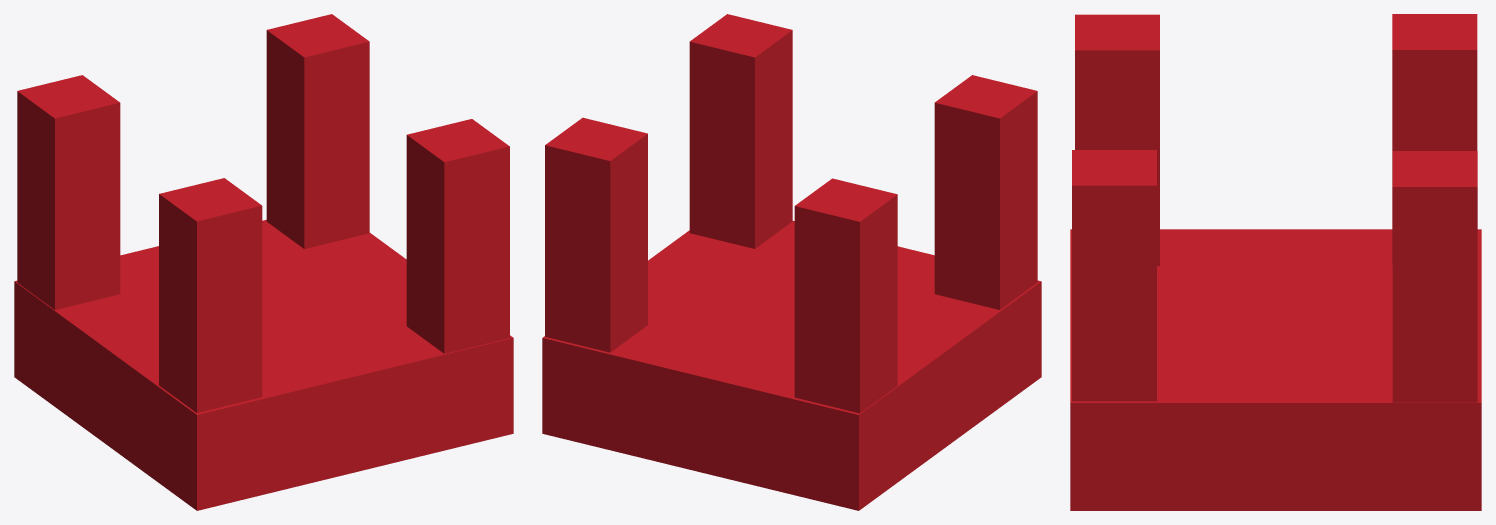
Rendered from townhall_bis.fbx.
3 renders of one model, left to right at view 1: azimuth 30°, elevation 25°; view 2: azimuth 150°, elevation 25°; view 3: azimuth 270°, elevation 25°, orthographic. The views are drawn at different scales.
Visible parts, largest first — view 1: Cube; view 2: Cube; view 3: Cube.
Part boxes in pixels (bbox=[...]): Cube: bbox=[14, 14, 513, 510]; Cube: bbox=[542, 14, 1041, 510]; Cube: bbox=[1070, 14, 1481, 510].
Size of the model in its own units: 625 by 542 by 625.
